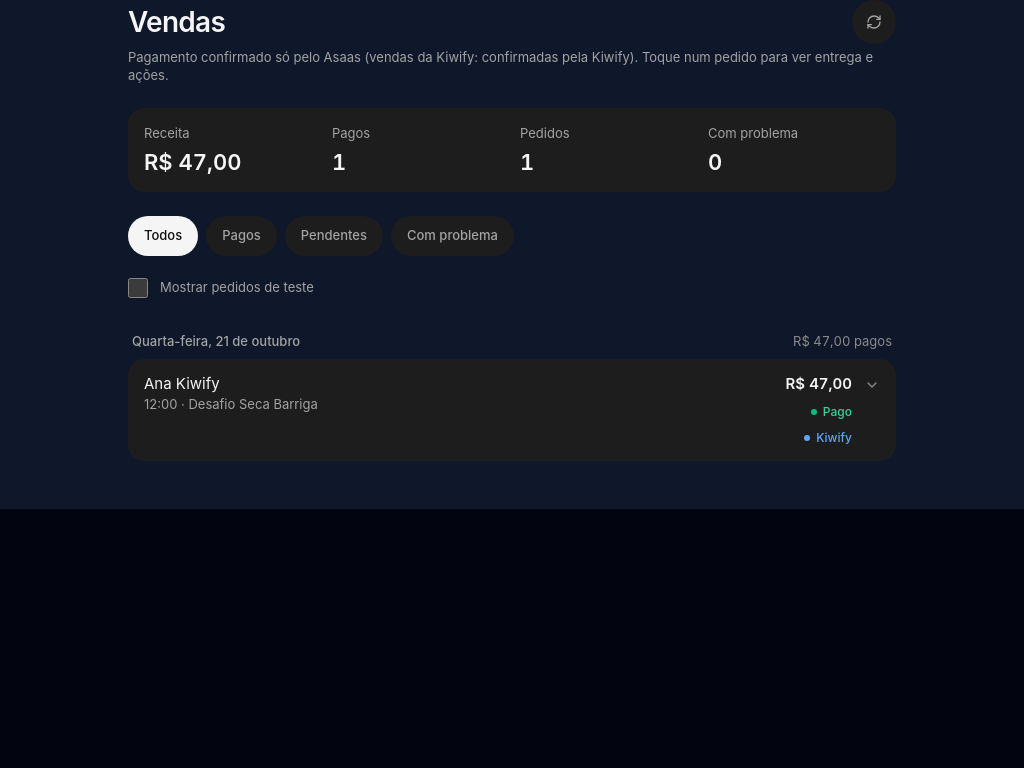
Scenario: NORQVA-0110 — vendas da Kiwify na tela Vendas › mostra a origem Kiwify, o produto e o valor, sem Reenviar acesso nem Copiar link
Expected: the text "Ana Kiwify" is shown, x1=144 y1=374 x2=220 y2=393
Expected: the element with test id "sales-source" reads "Kiwify", x1=816 y1=430 x2=852 y2=445
Click the button "Ana Kiwify 12:00 · Desafio Seca Barriga R$ 47,00 Pago Kiwify": (182, 384) x1=128 y1=359 x2=896 y2=461
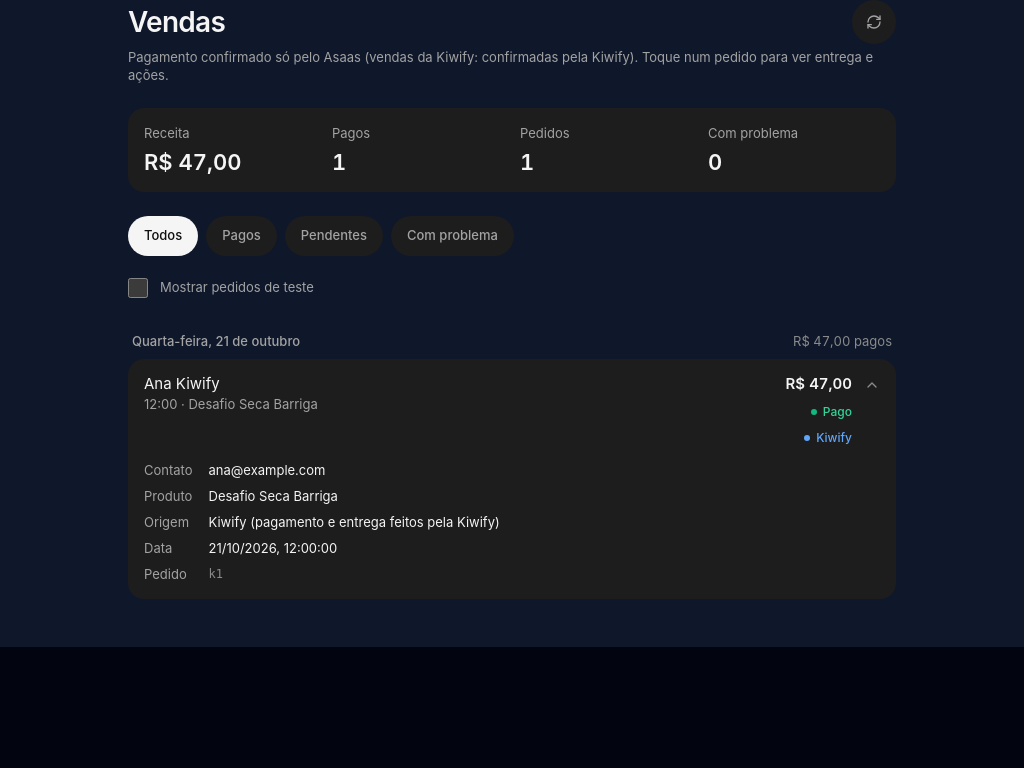
Expected: the text "Desafio Seca Barriga" is shown, x1=208 y1=488 x2=338 y2=504
Expected: the text "Kiwify (pagamento e entrega feitos pela Kiwify)" is shown, x1=208 y1=514 x2=500 y2=530
